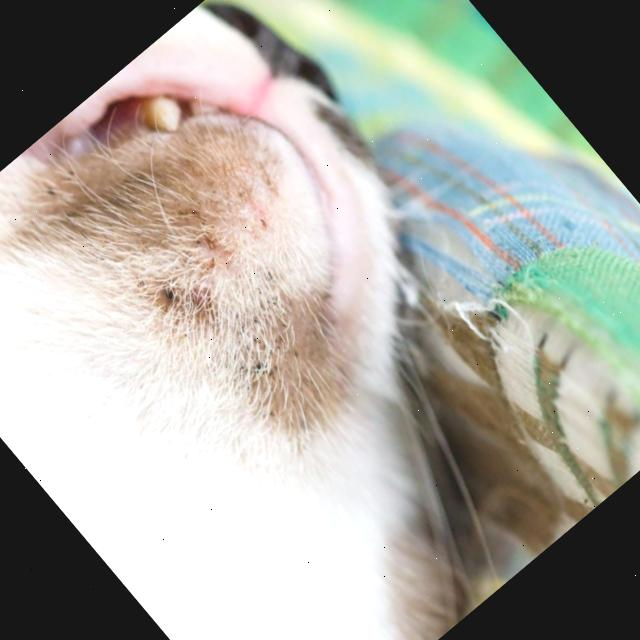cat-acne: (236, 301, 318, 384), (186, 215, 230, 261), (188, 252, 221, 284)
